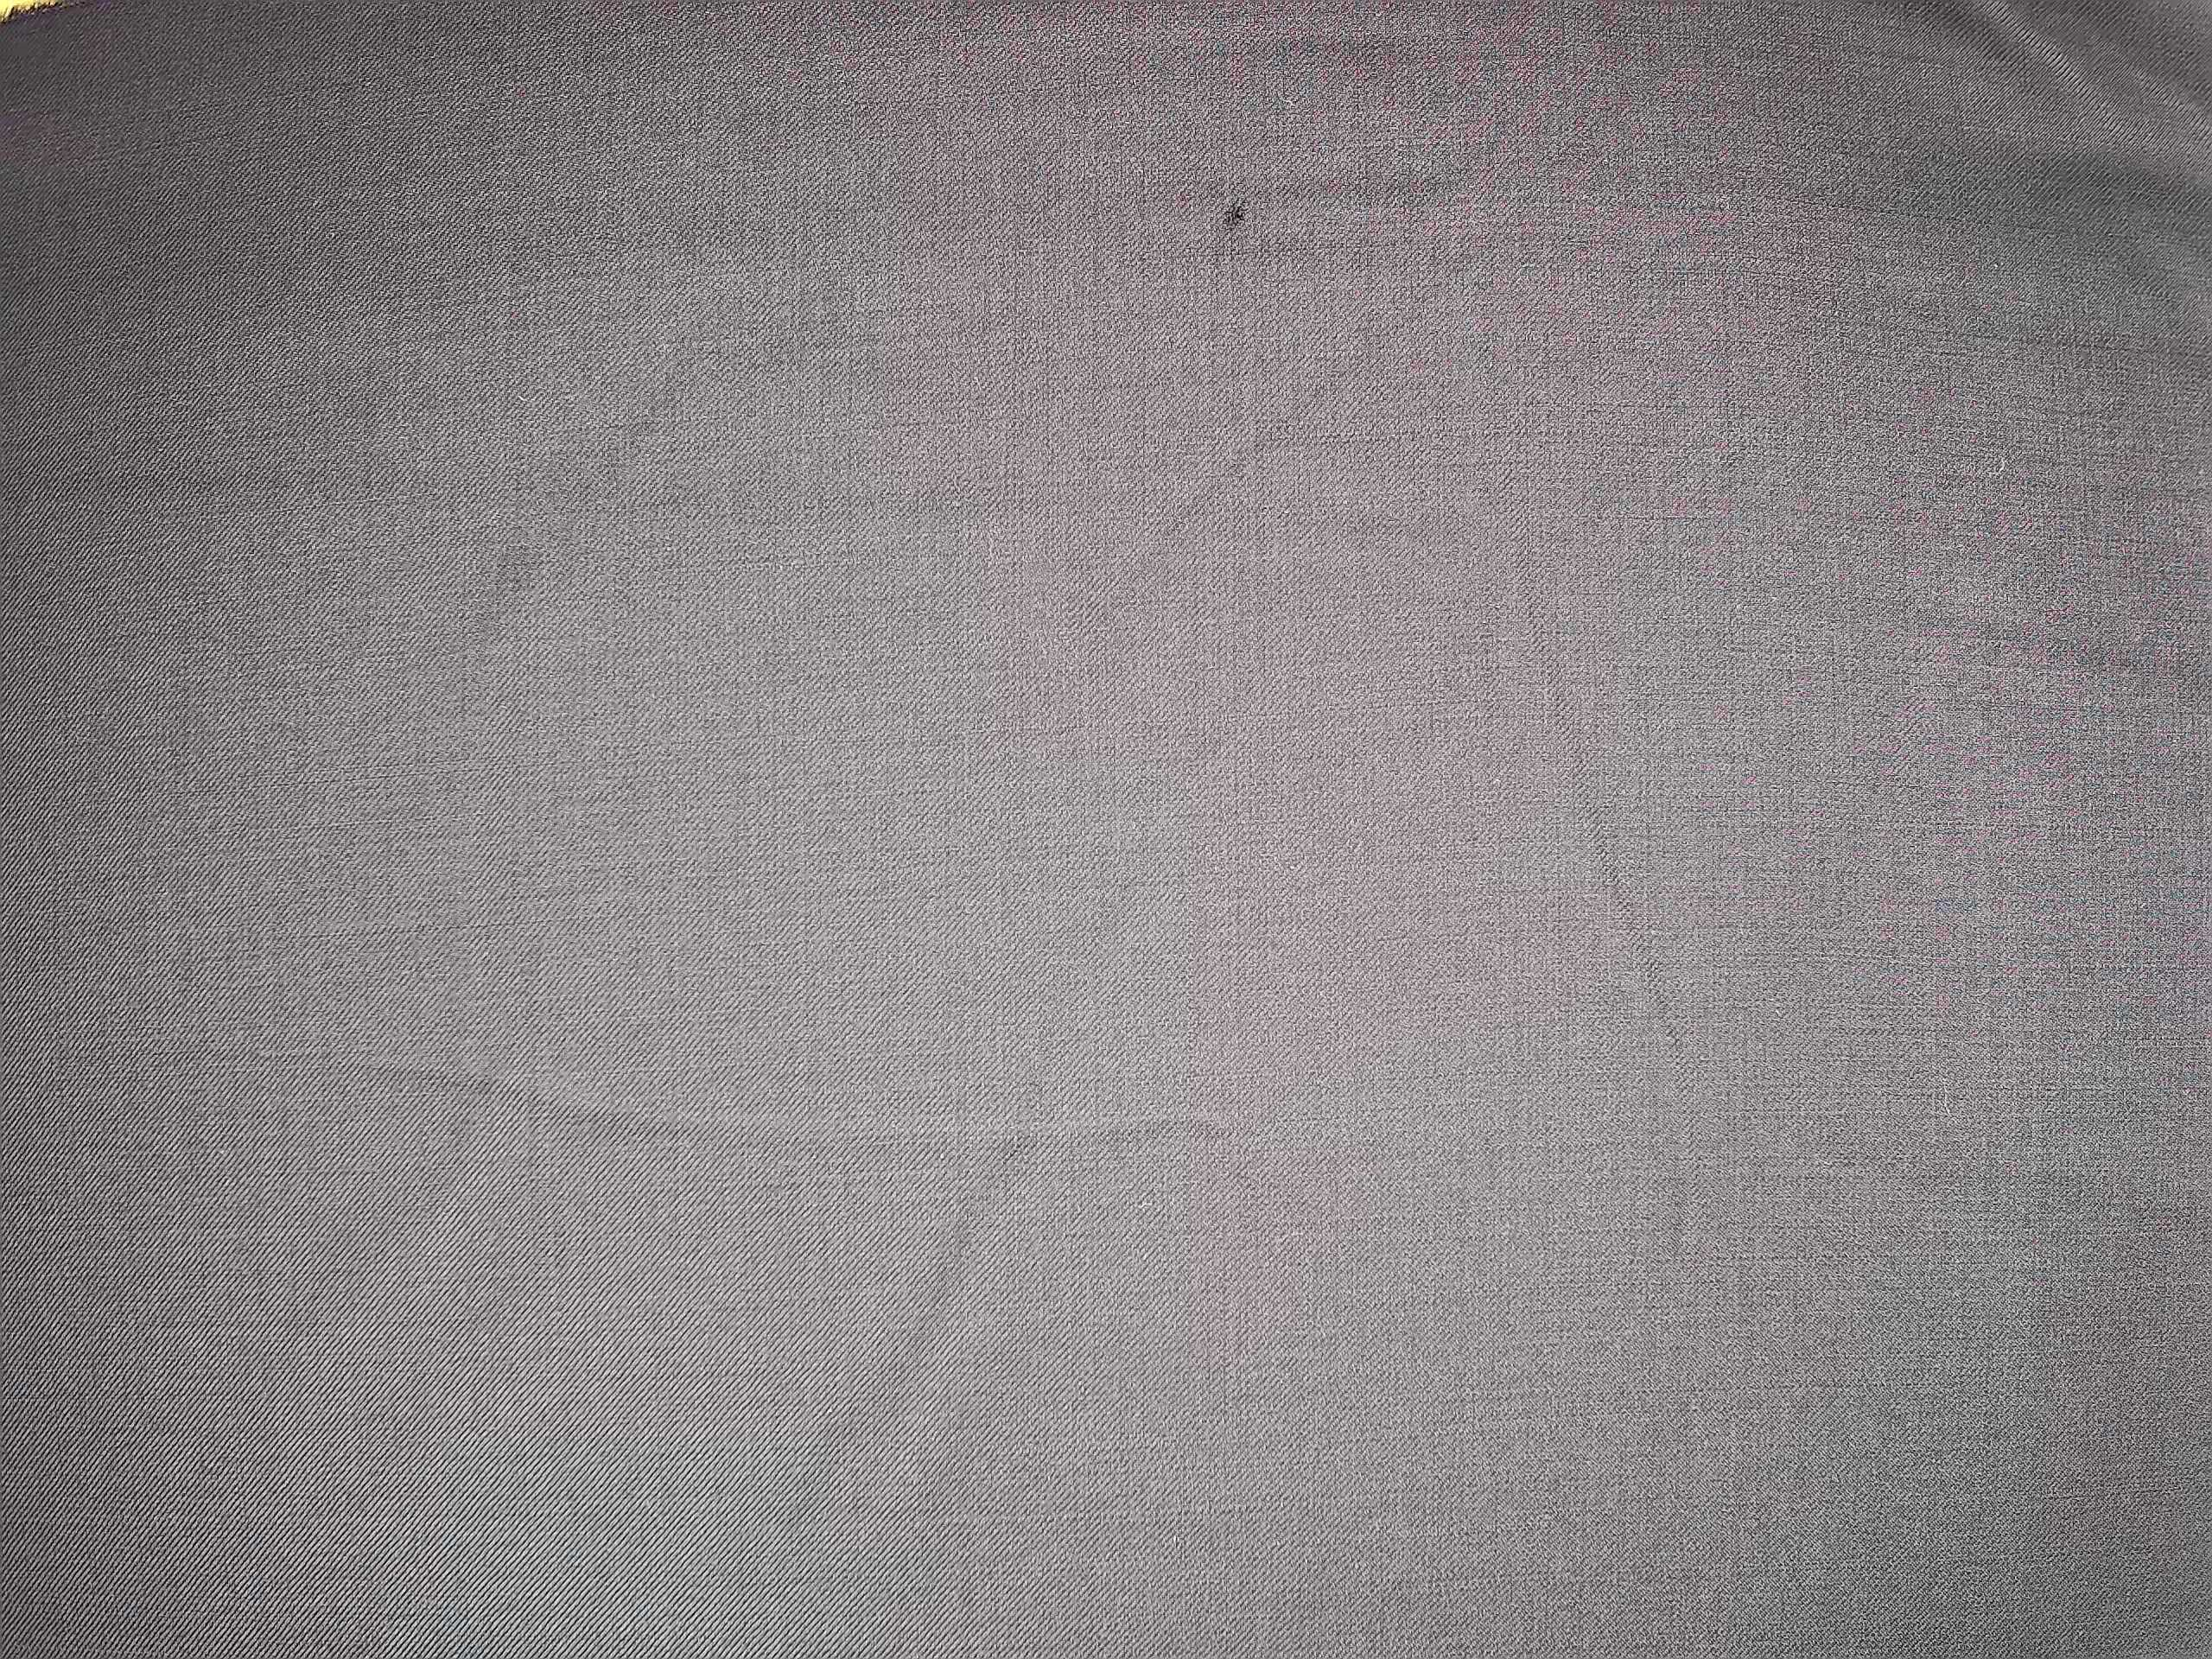rubbing-hole: (1214, 186, 1259, 240)
